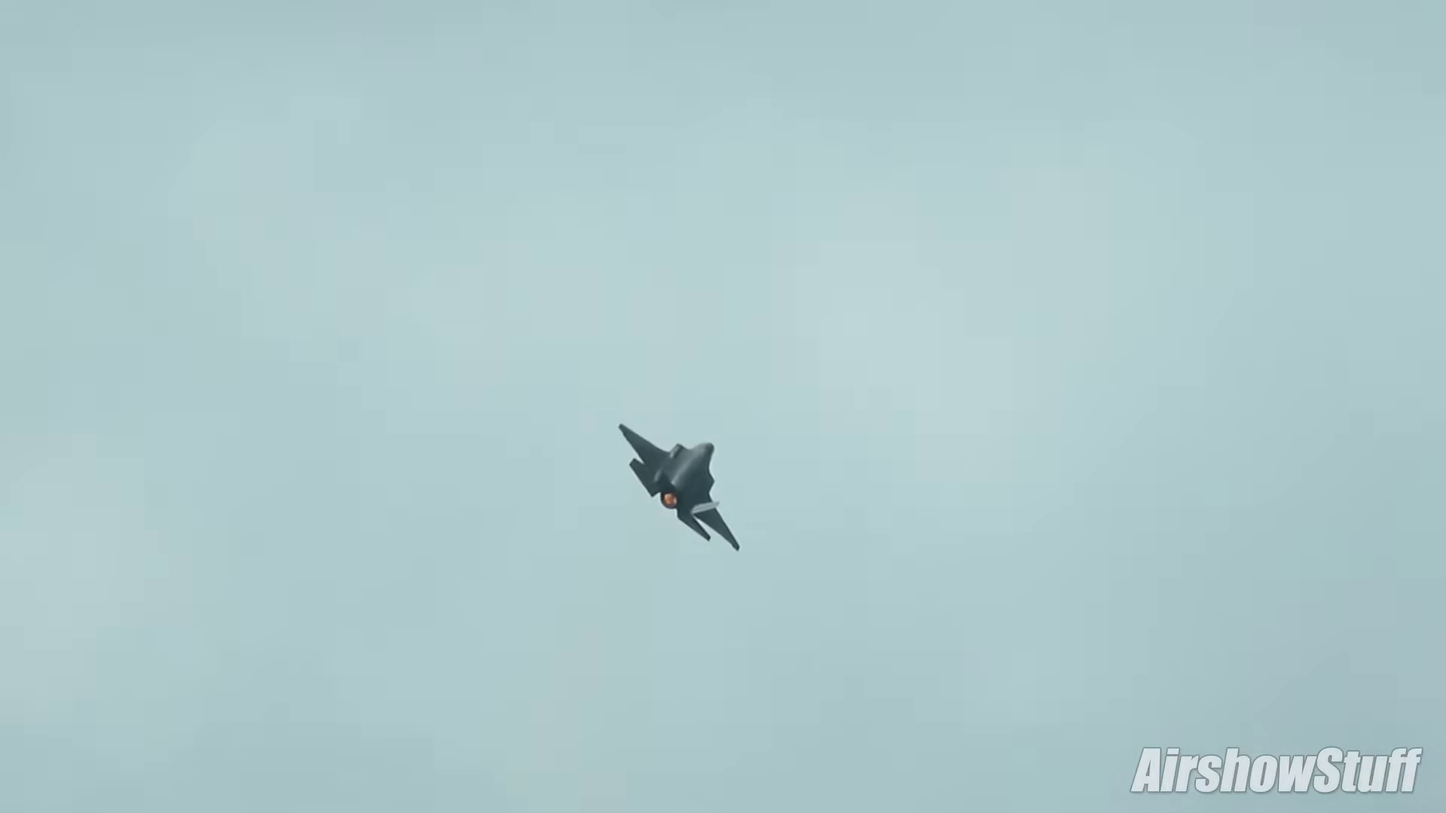F35: (617, 423, 742, 553)
